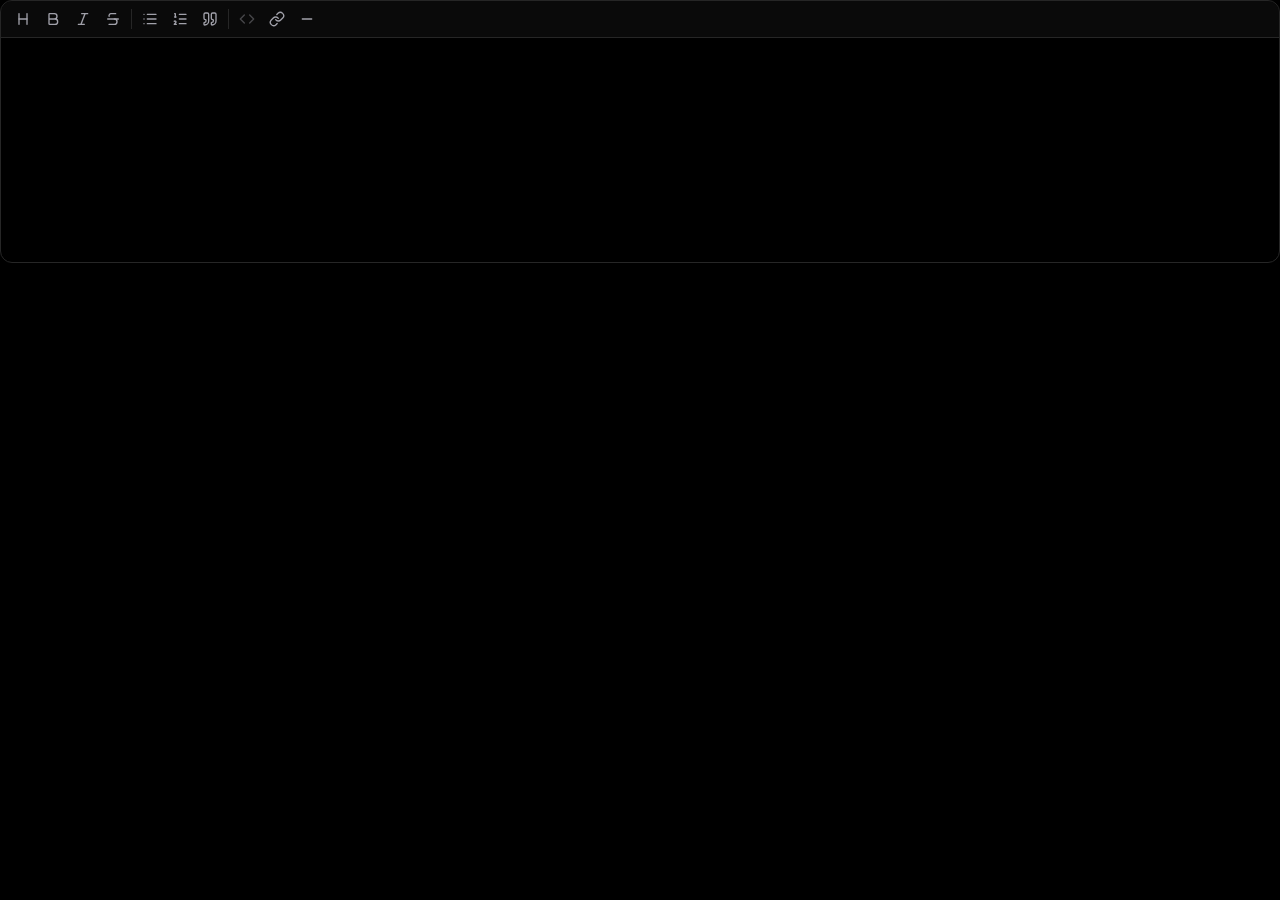
Scenario: WysiwygEditor › Escape closes the dialog without applying and returns focus to the Link button
Click the button titled "Link (⌘K)".
click(277, 19)  # box left=263, top=5, right=291, bottom=33
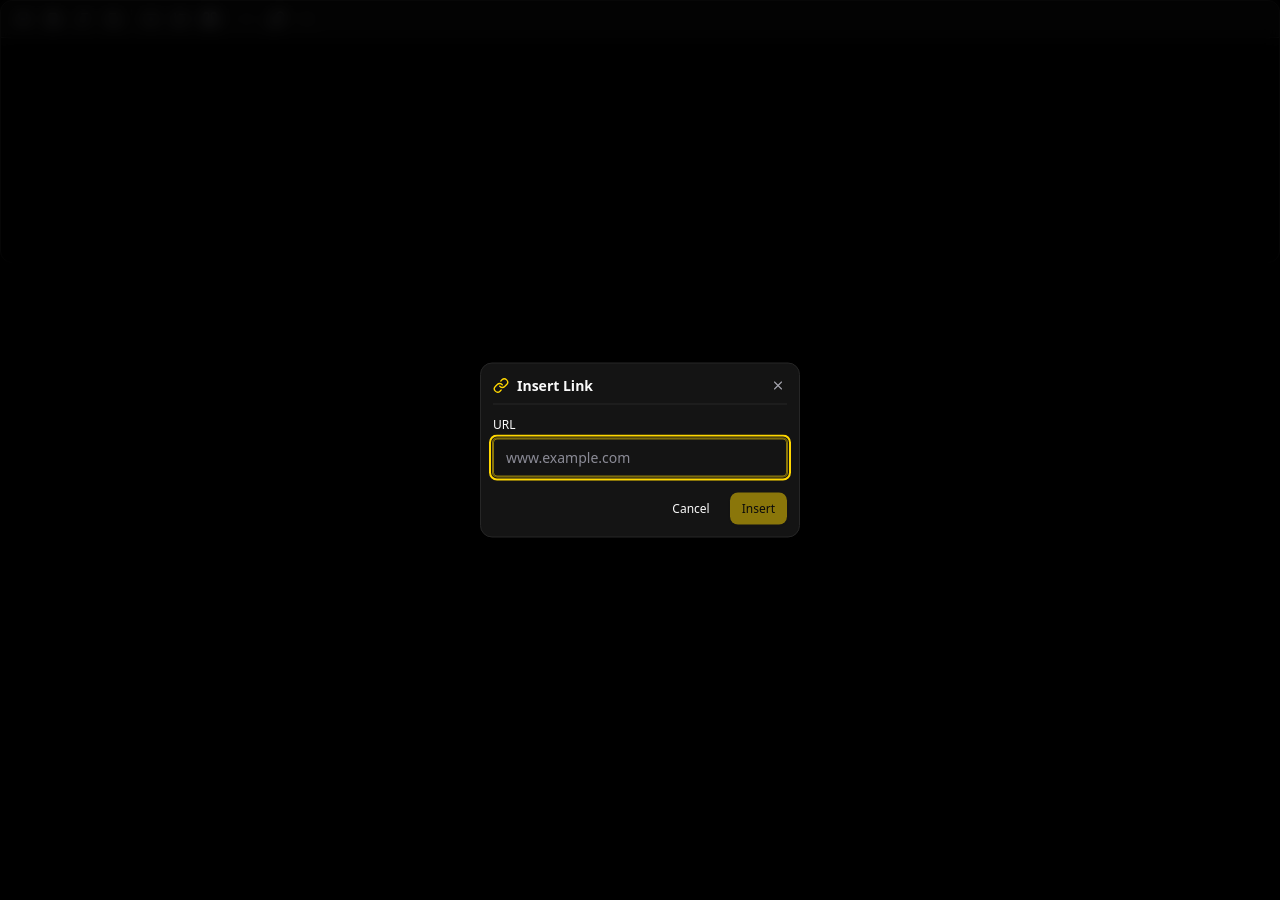
Press Escape
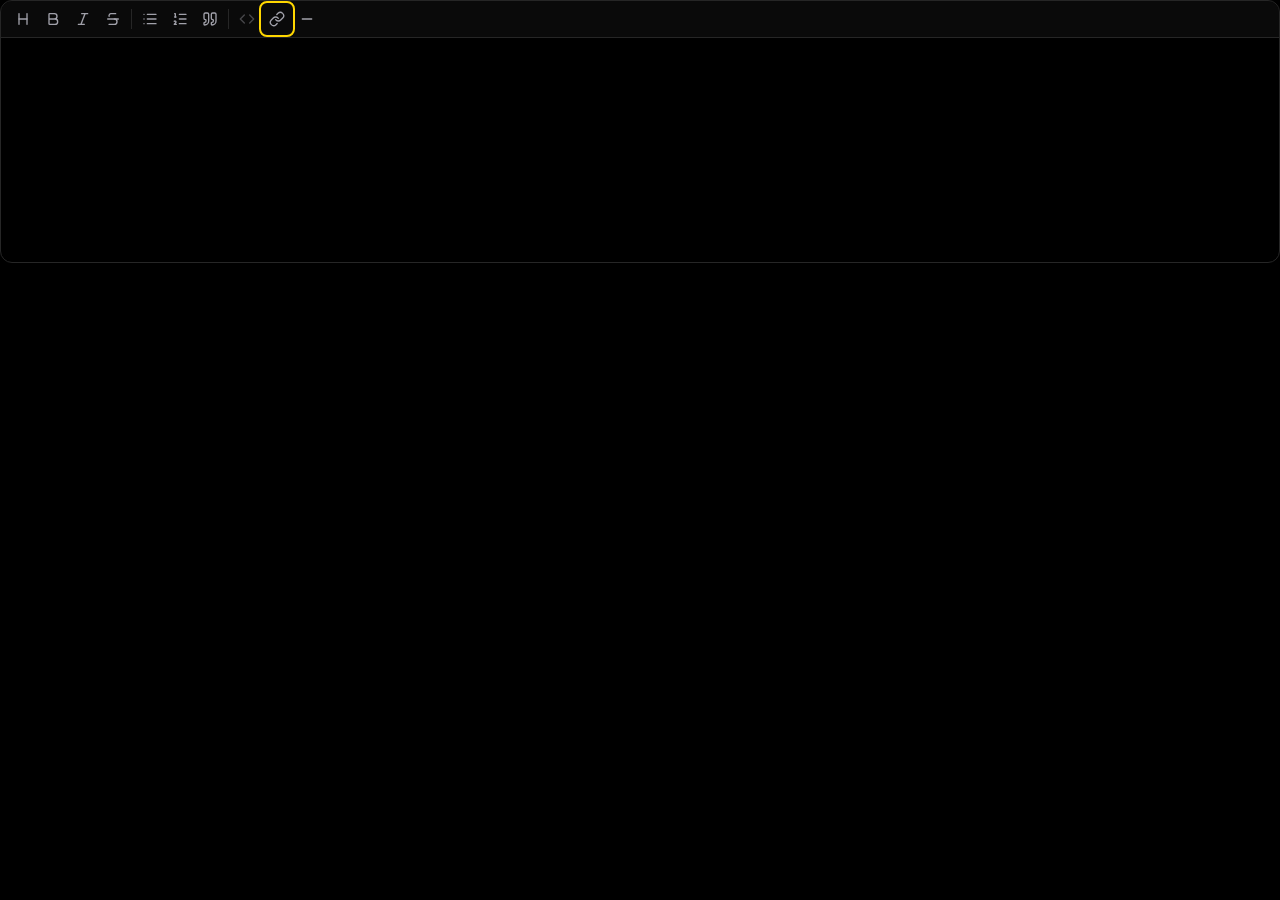
Expected: the text "Insert Link" is gone
